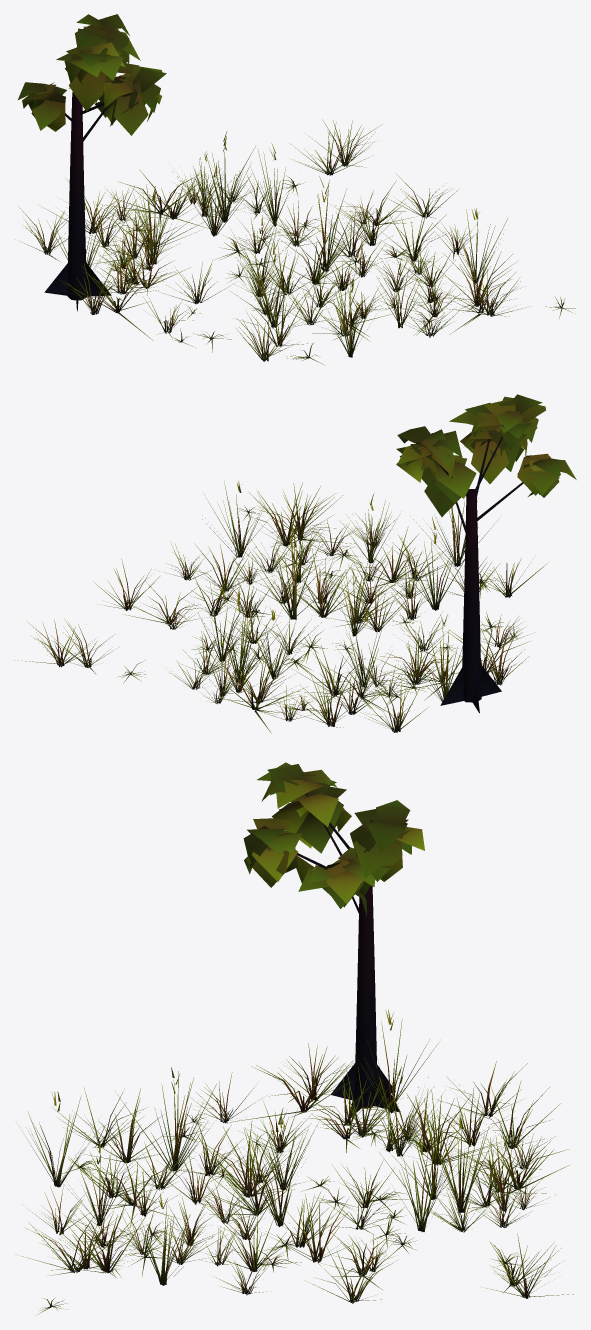
File: patch_grassfield.glb
3 views of the same model, one above another, from view 1: azimuth 30°, elevation 25°; view 2: azimuth 150°, elevation 25°; view 3: azimuth 270°, elevation 25° (orthographic). The views are drawn at different scales.
Parts seen in each view (by area): view 1: patch_grassfield; view 2: patch_grassfield; view 3: patch_grassfield.
Part boxes in pixels (<box>): patch_grassfield: <box>15,14,575,365</box>; patch_grassfield: <box>14,394,576,733</box>; patch_grassfield: <box>16,762,573,1314</box>.
Bounding box in the file's own units: 18.18 × 10.94 × 16.58.
Materials: 1 (1 with a texture image).
